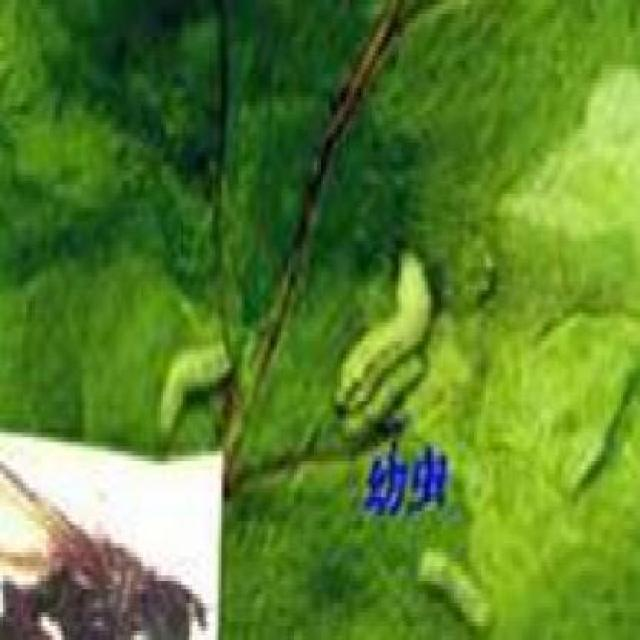whorl-maggot: (330, 242, 433, 449), (141, 332, 239, 452), (408, 543, 498, 637)
